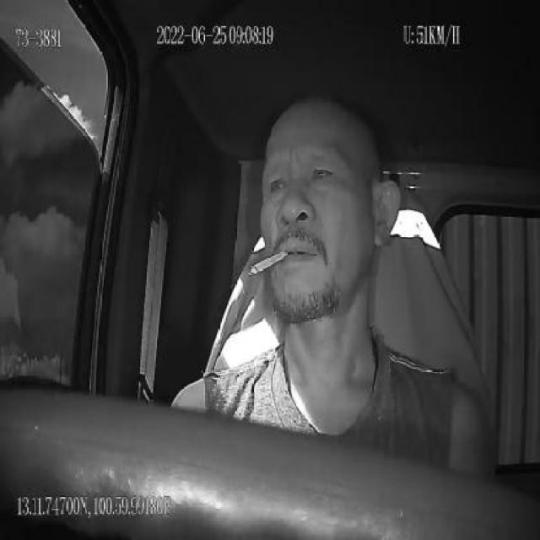smoking: (250, 243, 286, 276)
